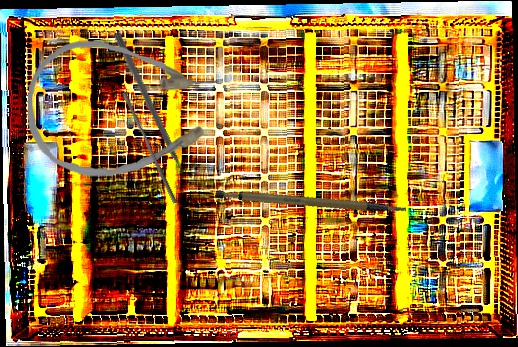Cannula: (25, 37, 220, 182)
Pusher: (111, 31, 192, 188), (118, 91, 182, 204)
Scalpel Handle: (214, 164, 407, 243)
